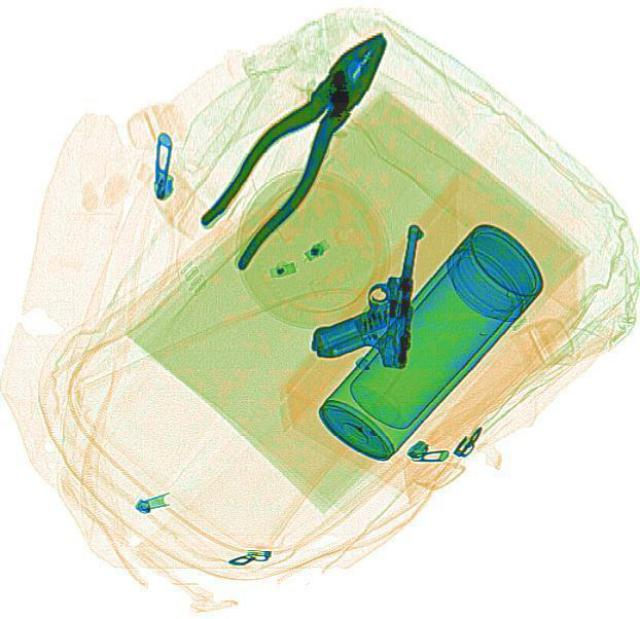Gun: (308, 216, 422, 367)
Pliers: (180, 13, 416, 270)
